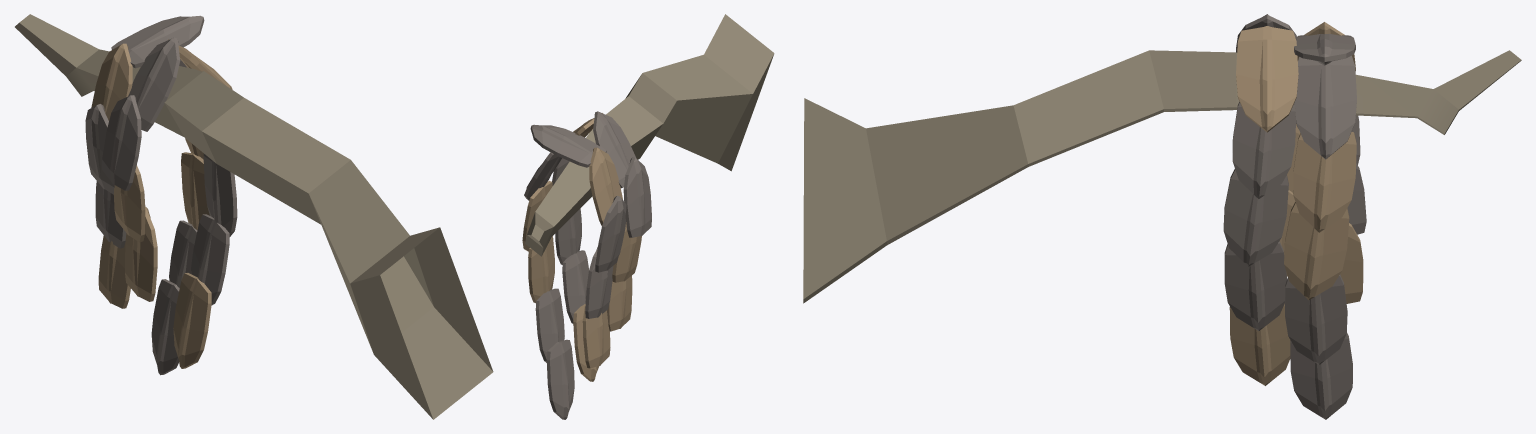
File: Scales Unharvested.fbx
3 views of the same model, side by side, from view 1: azimuth 30°, elevation 25°; view 2: azimuth 150°, elevation 25°; view 3: azimuth 270°, elevation 25° (orthographic). The views are drawn at different scales.
Visible parts, largest first — view 1: scales; view 2: scales; view 3: scales.
Part boxes in pixels (box(x1,y1,x2,y2)): scales: box(15, 14, 493, 419); scales: box(522, 14, 774, 419); scales: box(803, 14, 1521, 419).
Size of the model in its own units: 0.4763 by 0.982 by 1.61.
